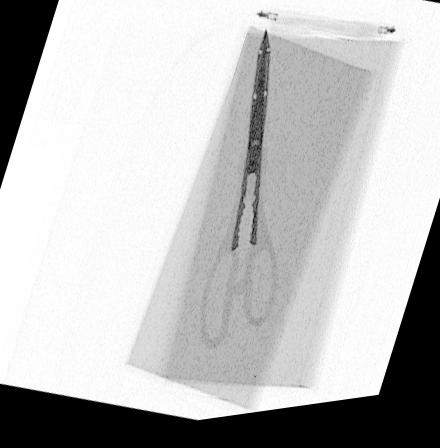Scissors: (198, 33, 280, 356)
